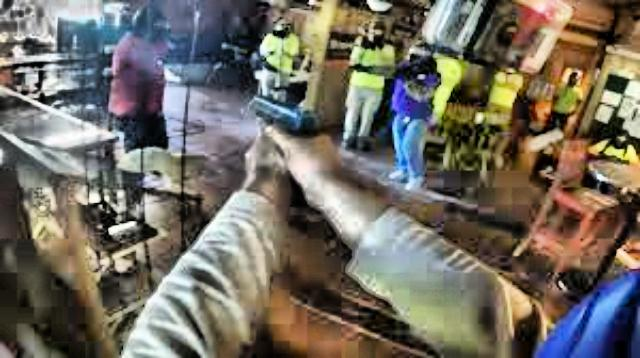pistol: (241, 88, 315, 212)
